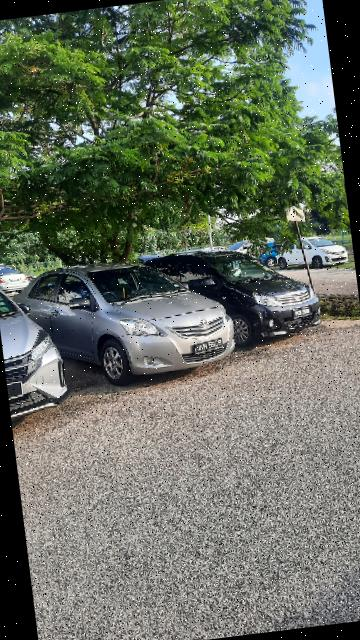License_Plate: (190, 337, 226, 358), (290, 303, 313, 319)
car: (11, 247, 240, 393), (144, 237, 330, 360), (1, 276, 74, 429)
